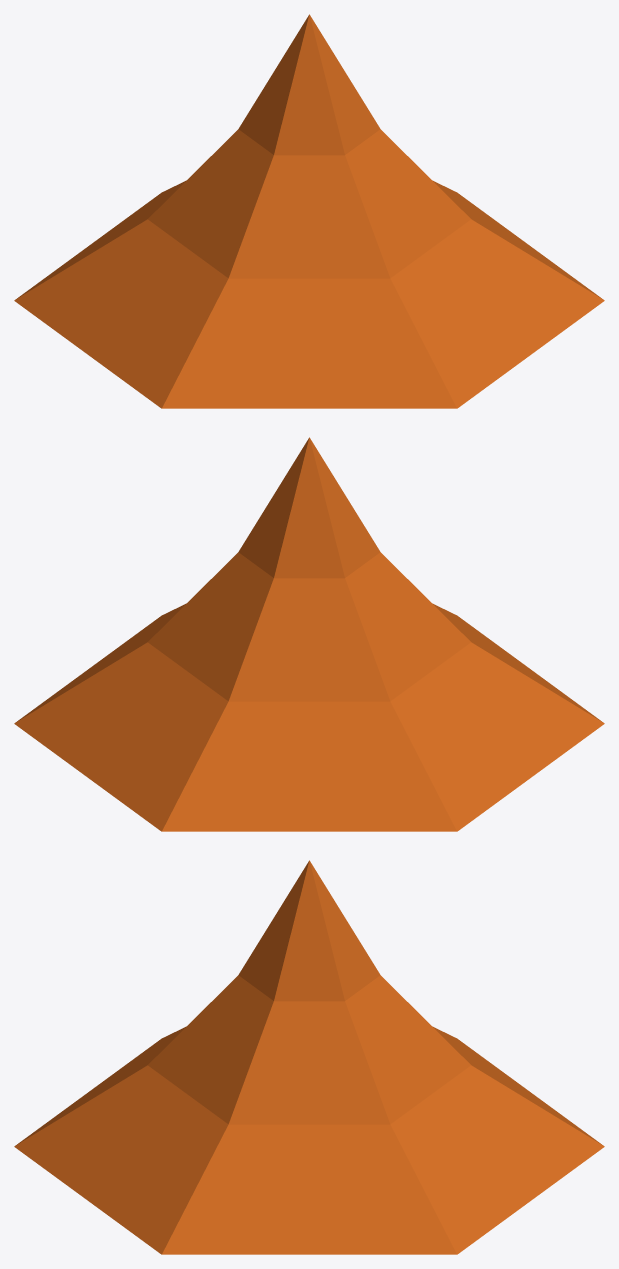
Rendered from RPG_Tiles_Hex_Building_Roof_01.FBX.
3 views of the same model, one above another, from view 1: azimuth 30°, elevation 25°; view 2: azimuth 150°, elevation 25°; view 3: azimuth 270°, elevation 25° (orthographic).
Visible parts, largest first — view 1: RPG_Tiles_Hex_Building_Roof_01; view 2: RPG_Tiles_Hex_Building_Roof_01; view 3: RPG_Tiles_Hex_Building_Roof_01.
Boxes of the visible parts, x1,y1,x2,y2 form: RPG_Tiles_Hex_Building_Roof_01: (14, 14, 604, 408); RPG_Tiles_Hex_Building_Roof_01: (14, 437, 604, 831); RPG_Tiles_Hex_Building_Roof_01: (14, 860, 604, 1254).
Bounding box in the file's own units: 3000 × 1853 × 3464.
